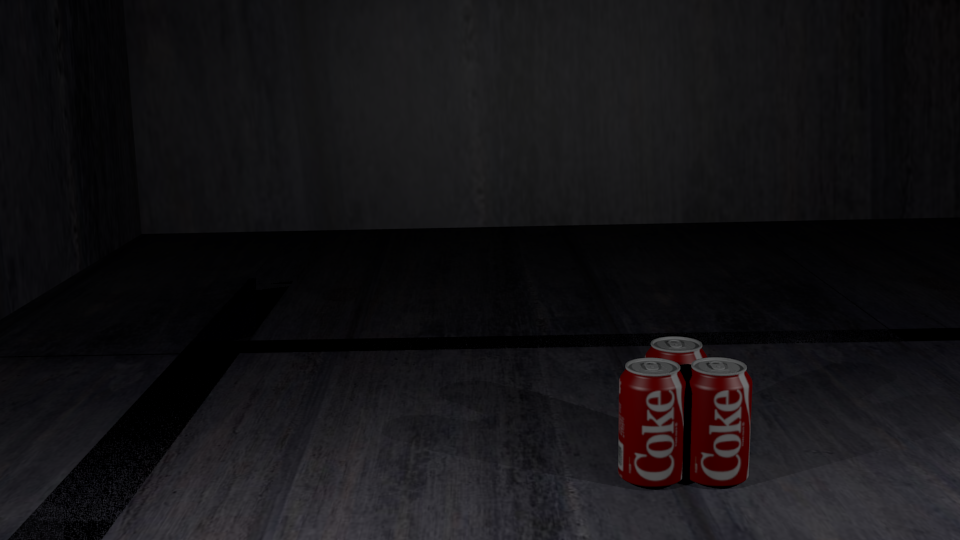cola_can: (684, 358, 751, 482), (619, 358, 685, 483), (646, 337, 706, 454)
